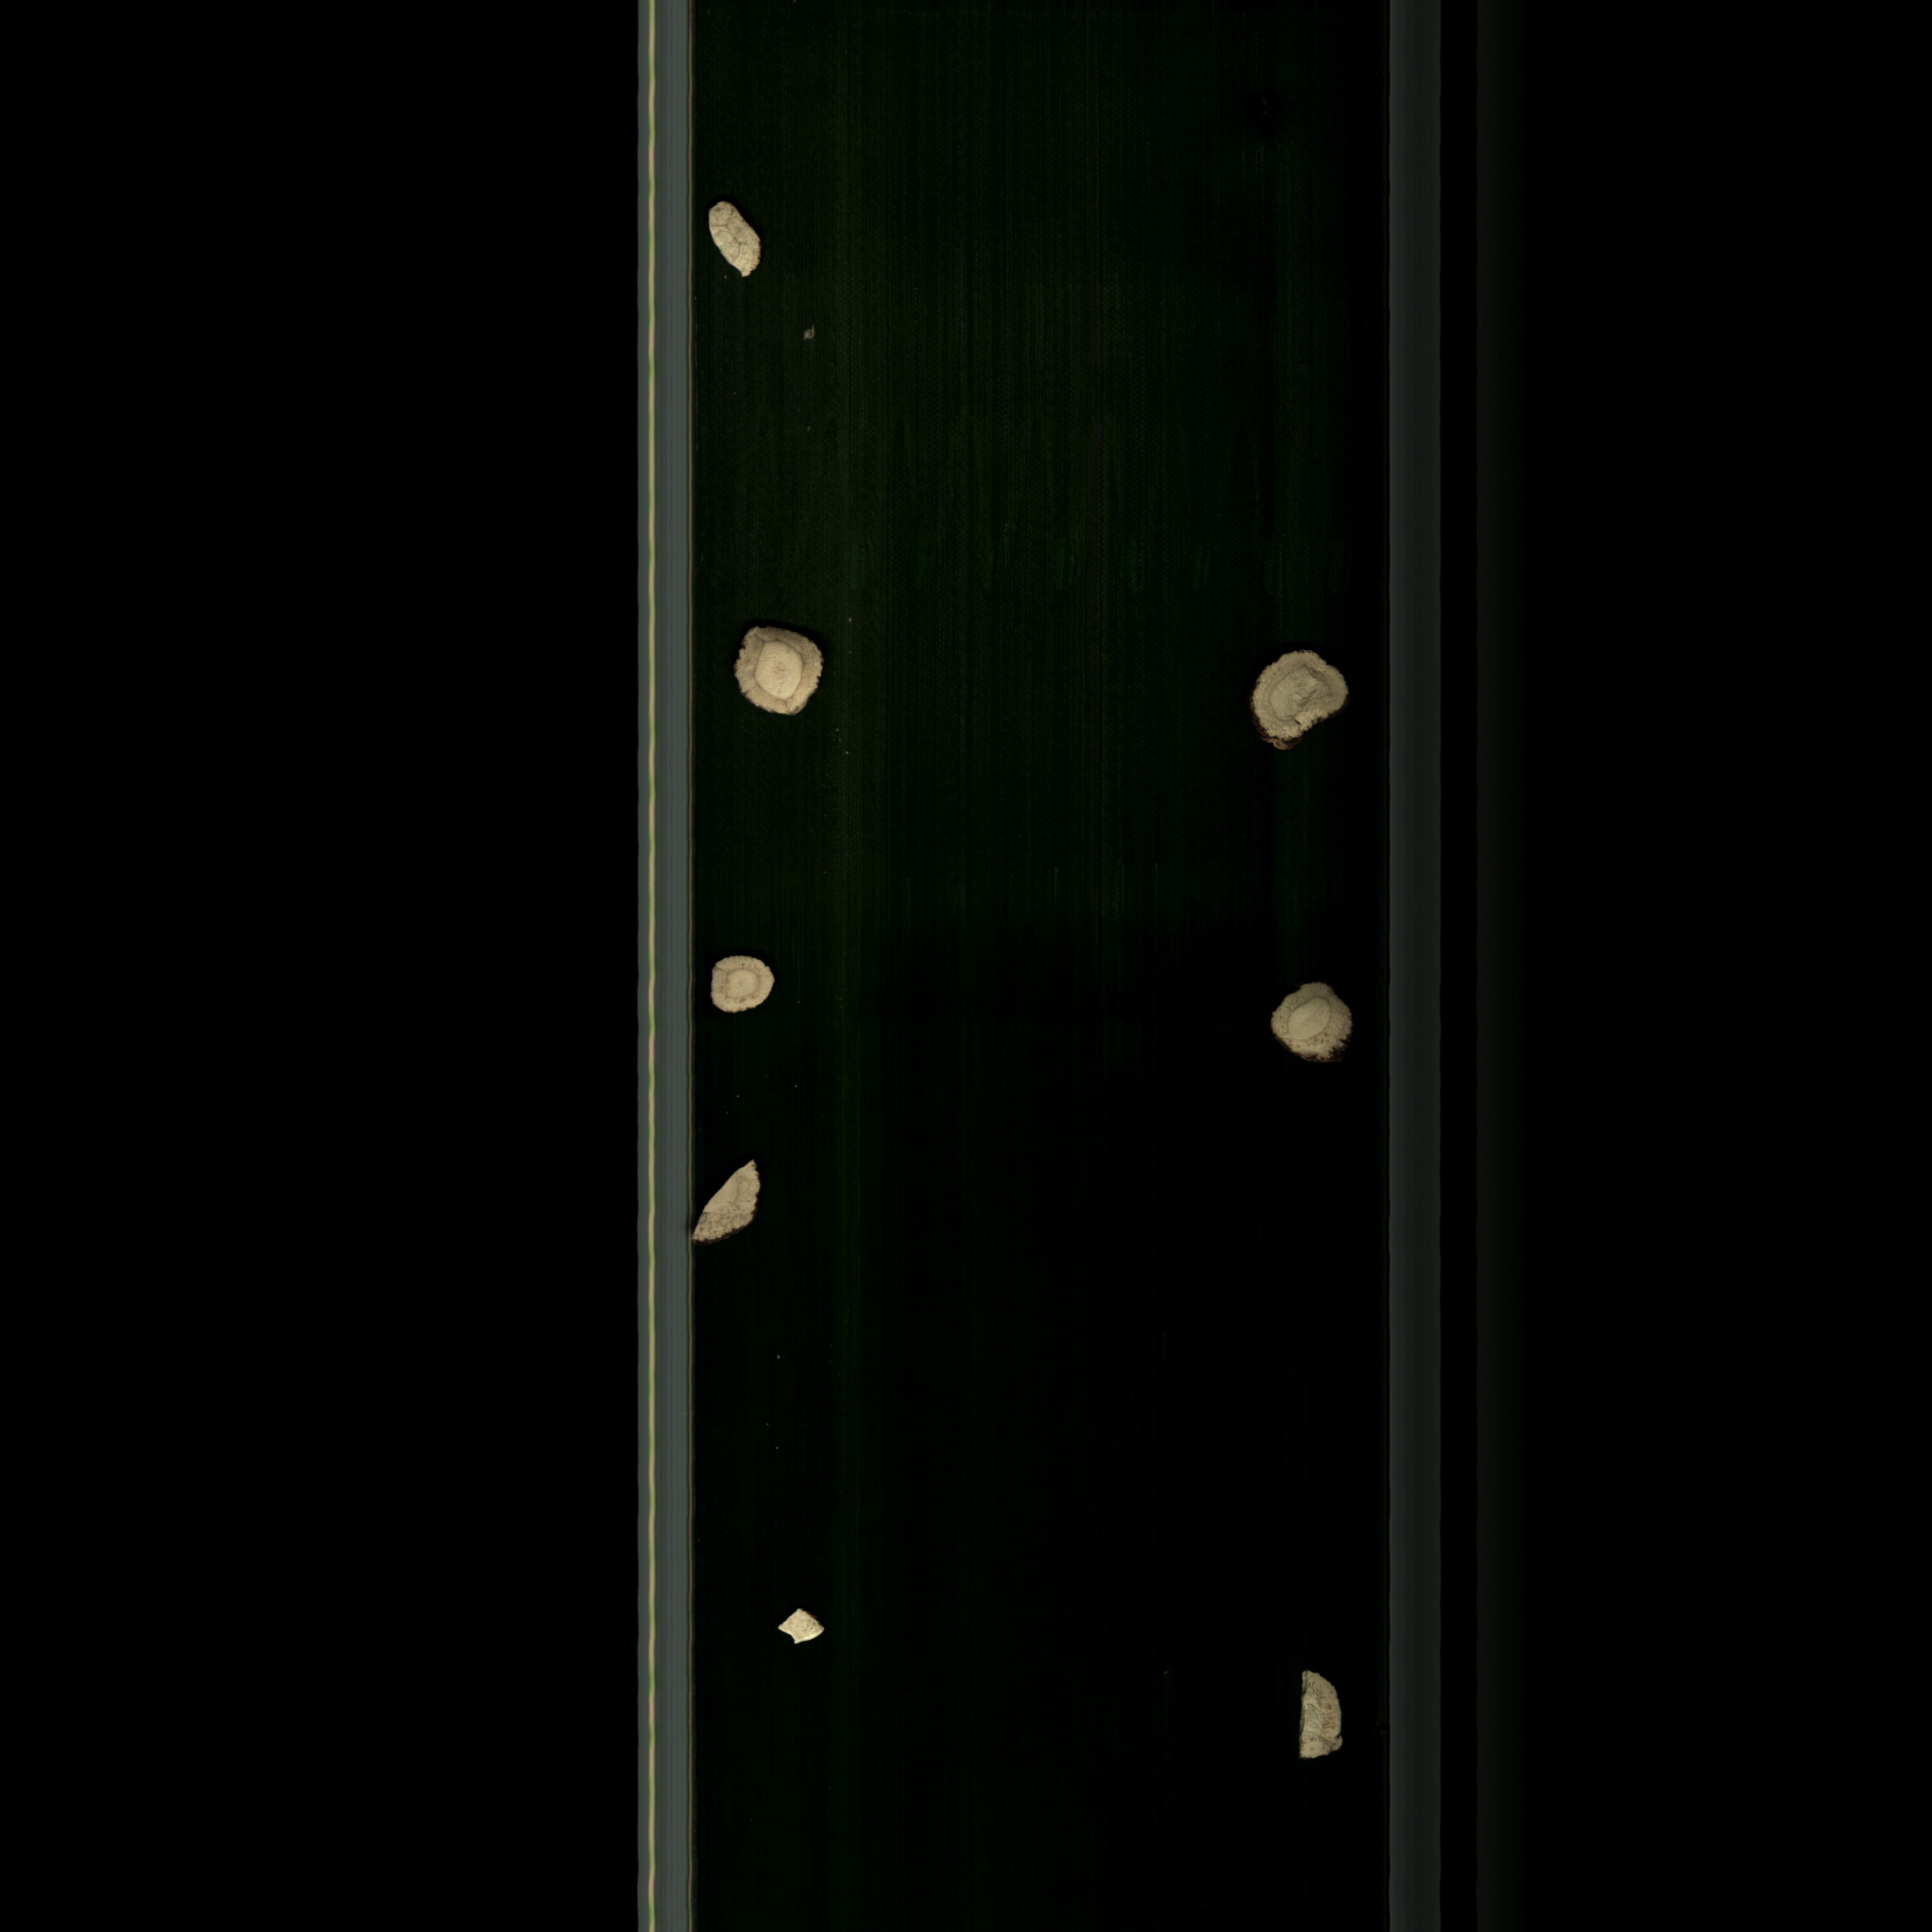debris: (1253, 973, 1366, 1072), (1284, 1658, 1352, 1776), (690, 1155, 763, 1254)
distortion: (1242, 640, 1353, 757)
dreg: (701, 195, 773, 290), (766, 1601, 837, 1663)
